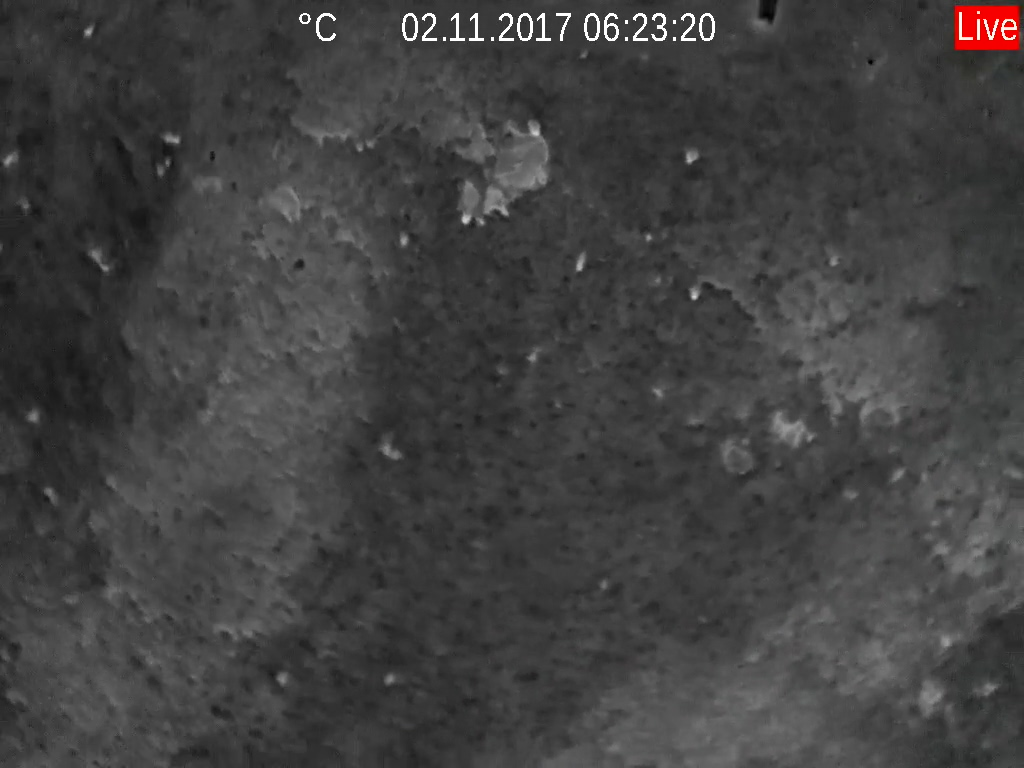warren: (81, 235, 121, 281), (512, 106, 550, 145), (454, 193, 492, 230), (157, 127, 188, 148), (682, 276, 705, 304), (571, 245, 590, 278), (680, 144, 704, 170)
